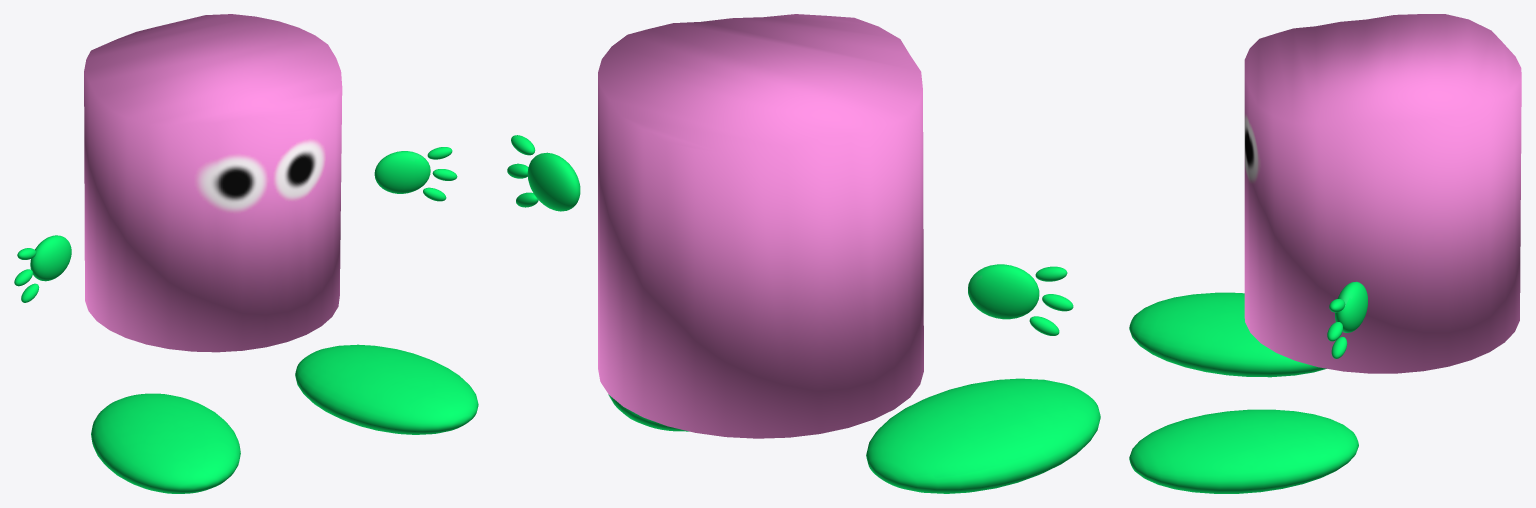
The model's file is spielerneu.fbx.
The picture shows the model from 3 angles, left to right: view 1: azimuth 30°, elevation 25°; view 2: azimuth 150°, elevation 25°; view 3: azimuth 270°, elevation 25°; orthographic projection. The views are drawn at different scales.
Visible parts, largest first — view 1: Sphere_004; view 2: Sphere_004; view 3: Sphere_004.
Part boxes in pixels (x1,y1,x2,y2): Sphere_004: (14, 14, 478, 493); Sphere_004: (507, 14, 1100, 493); Sphere_004: (1129, 14, 1521, 493).
Size of the model in its own units: 4 by 2.82 by 2.84.
4 materials, 4 textured.
